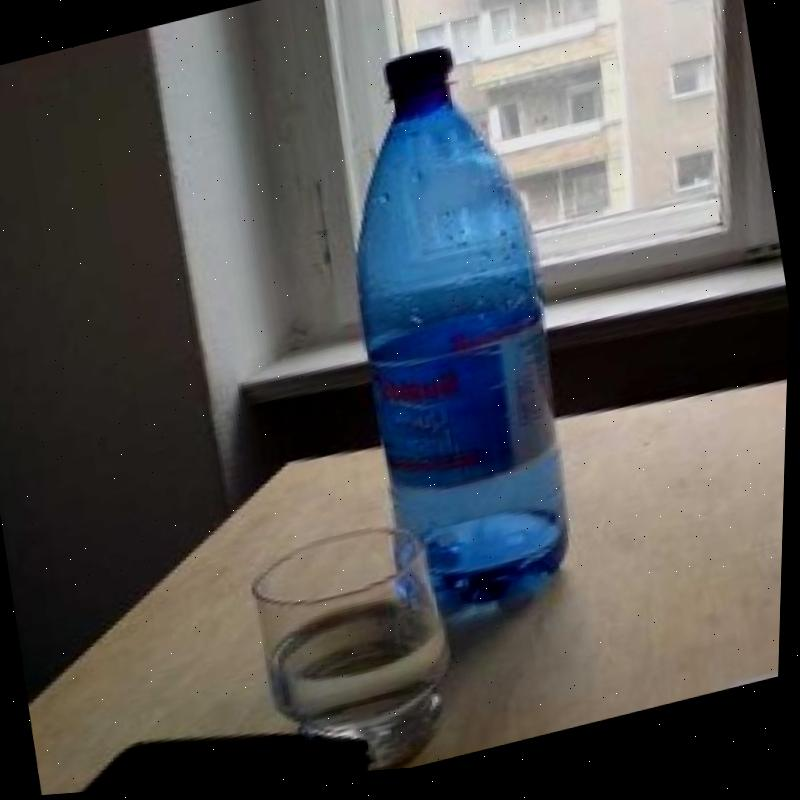botella: (308, 26, 609, 652)
